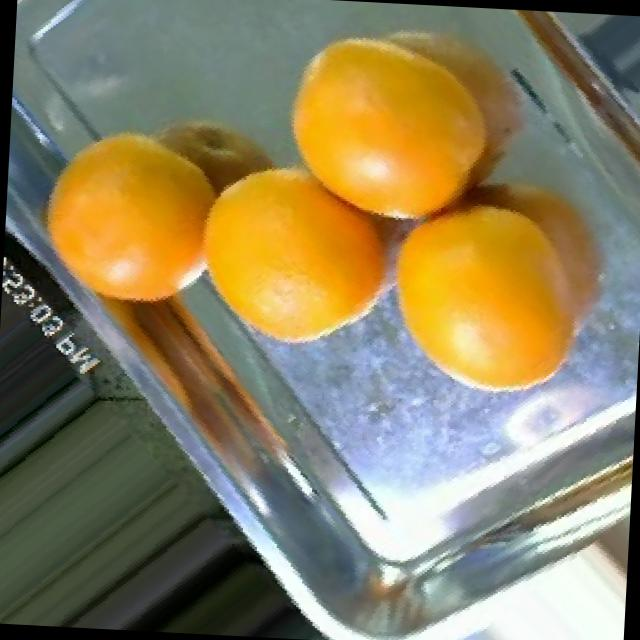Fruit: (184, 173, 422, 377)
